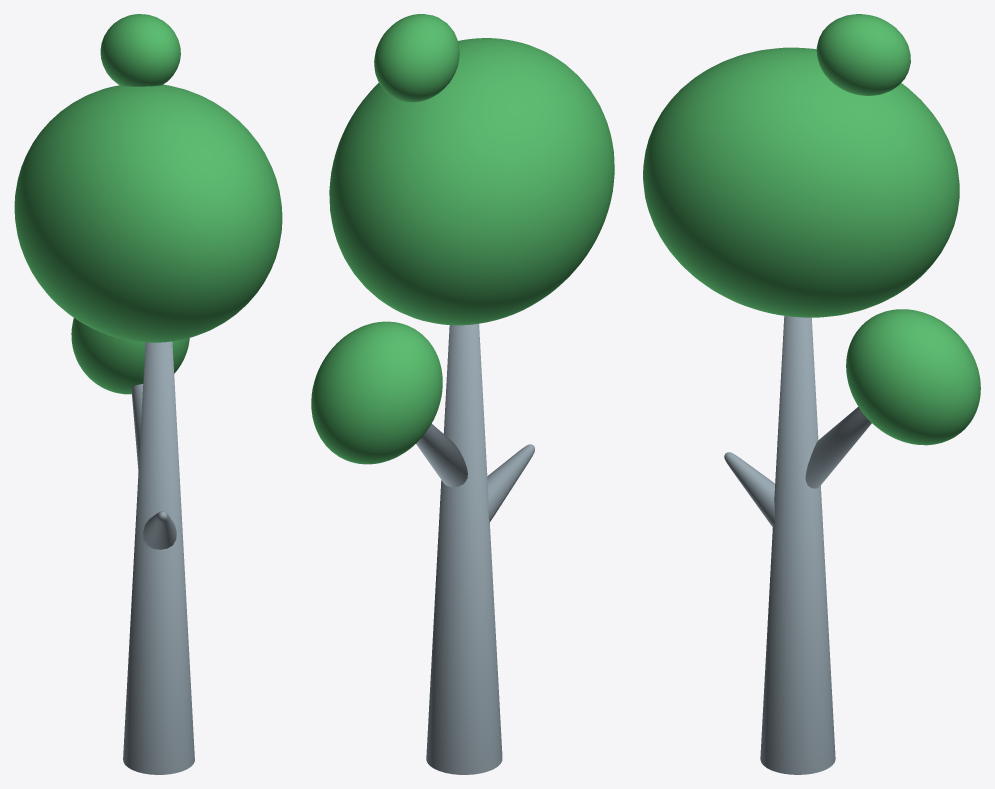
File: Tree_4.fbx
3 renders of one model, left to right at view 1: azimuth 30°, elevation 25°; view 2: azimuth 150°, elevation 25°; view 3: azimuth 270°, elevation 25°, orthographic. The views are drawn at different scales.
Visible parts, largest first — view 1: Tree_4; view 2: Tree_4; view 3: Tree_4.
Part boxes in pixels (box(x1,y1,x2,y2)): Tree_4: box(14, 14, 282, 774); Tree_4: box(311, 14, 614, 774); Tree_4: box(643, 14, 980, 774).
Bounding box in the file's own units: 158 × 488 × 200.
